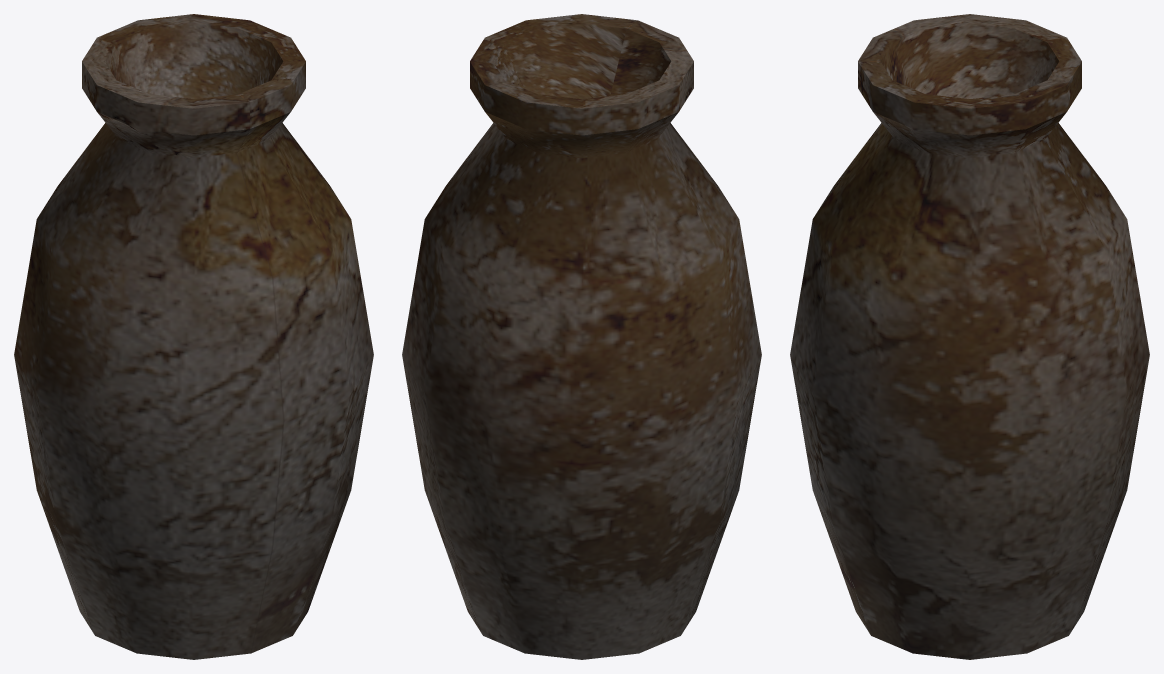
File: Jug2.fbx
The picture shows the model from 3 angles, left to right: view 1: azimuth 30°, elevation 25°; view 2: azimuth 150°, elevation 25°; view 3: azimuth 270°, elevation 25°; orthographic projection.
Parts seen in each view (by area): view 1: jug2_dzban2; view 2: jug2_dzban2; view 3: jug2_dzban2.
Part boxes in pixels (box(x1,y1,x2,y2)): jug2_dzban2: box(14, 14, 373, 659); jug2_dzban2: box(402, 14, 761, 659); jug2_dzban2: box(790, 14, 1149, 659).
Size of the model in its own units: 1.58 by 2.66 by 1.58.
